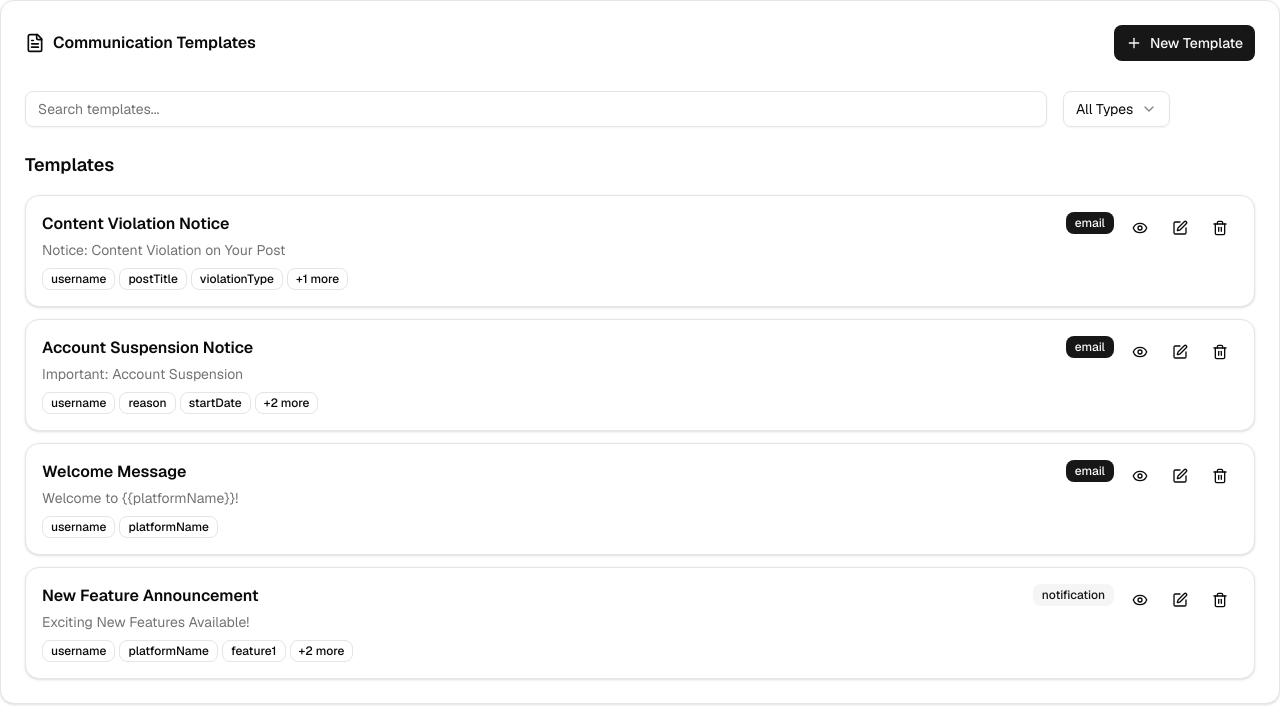
Test: CommunicationTemplates › opens create dialog when "New Template" is clicked
Click the button "New Template": (1184, 43) [1114, 25, 1255, 61]
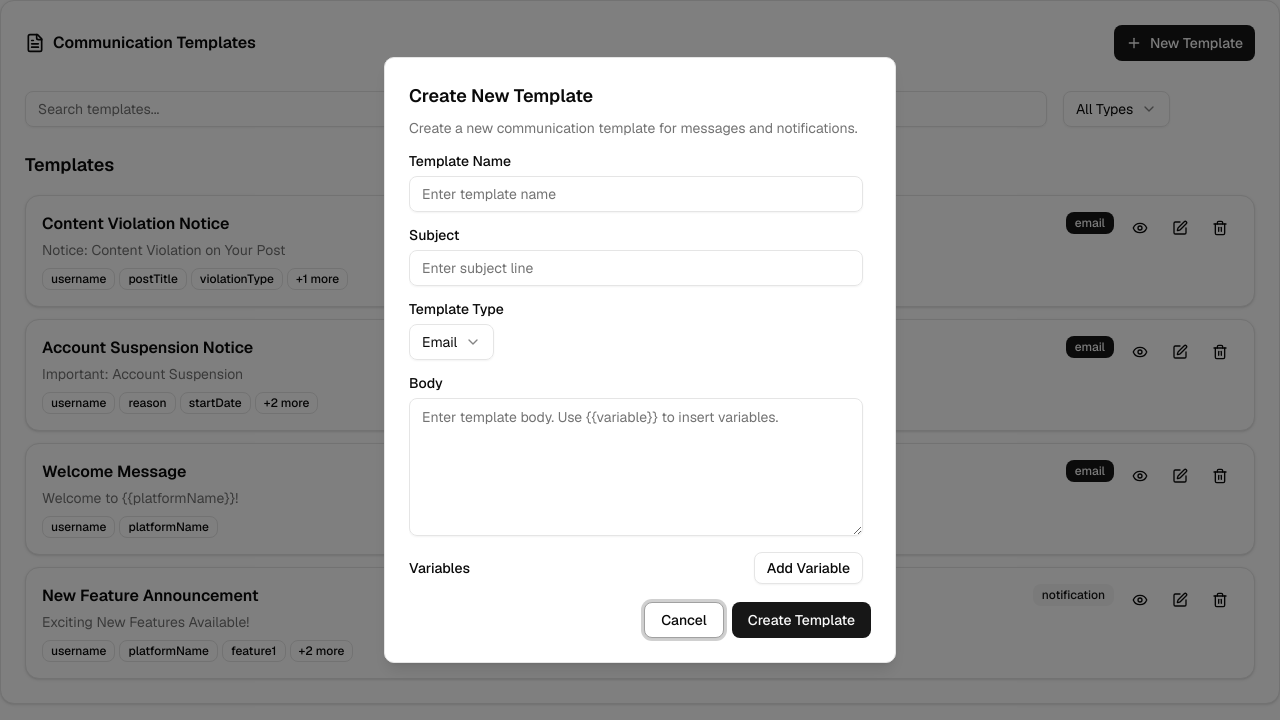
Expected: the heading "Create New Template" is shown, [409, 84, 593, 107]
Expected: the button "Create Template" is shown, [732, 602, 871, 638]
